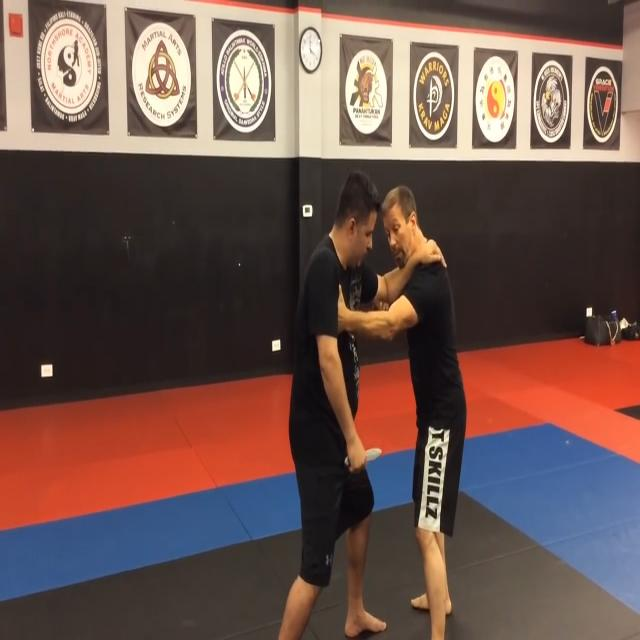knife: (344, 448, 386, 473)
